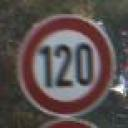speed_limit_120: (12, 10, 118, 118)
